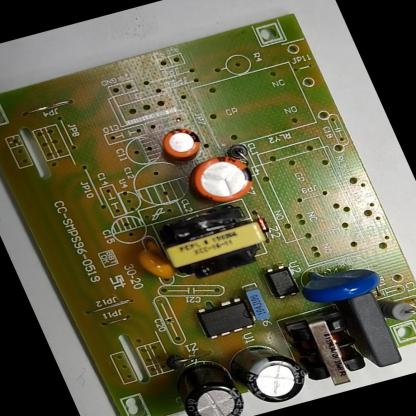Cap1: (184, 150, 265, 211)
Cap2: (160, 124, 209, 164)
Cap3: (224, 335, 316, 412)
Cap4: (167, 359, 253, 416)
MOSFET: (192, 293, 261, 342)
Mov: (292, 255, 388, 311)
Resistor: (376, 291, 416, 328)
Transformer: (152, 199, 278, 286), (285, 305, 376, 393)
